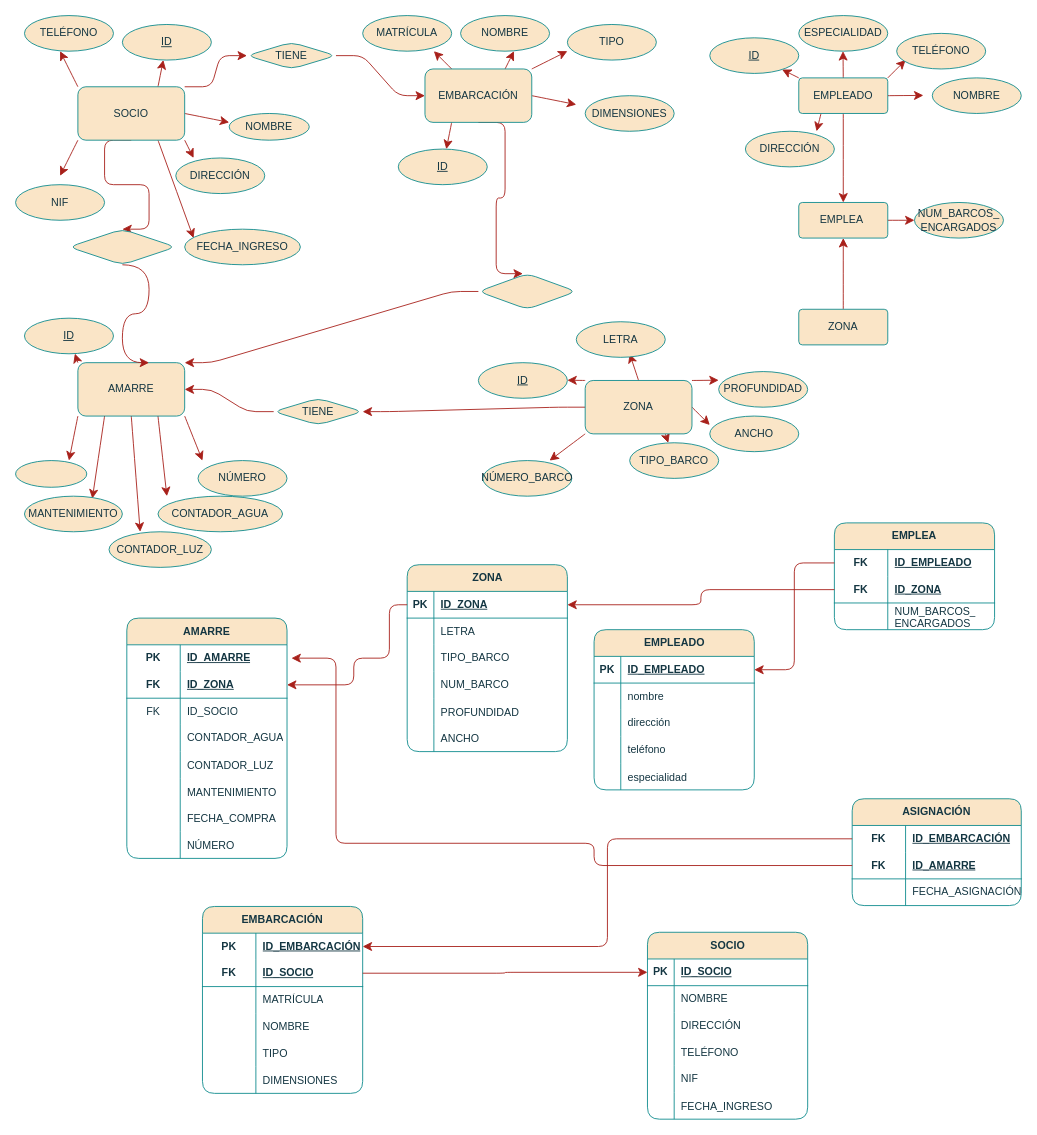
Image size: 1037x1135. Some labels were removed from this diagram. The box of each missing label's shape, as (x1, y1, x2, y2) in pixels:
FECHA_ COMPRA: (15, 460, 87, 487)
OCUPA: (477, 273, 576, 309)
PROPIETARIO: (68, 228, 176, 265)
